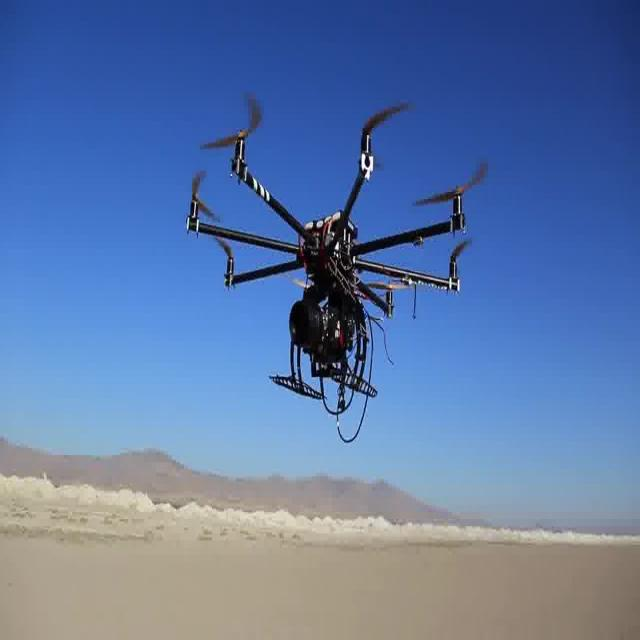drones: (180, 78, 494, 450)
